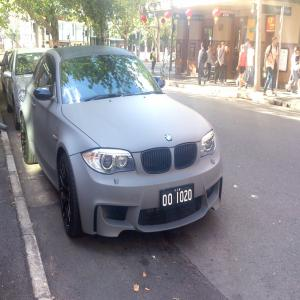Vehicle-registration-plate: (162, 186, 194, 209)
